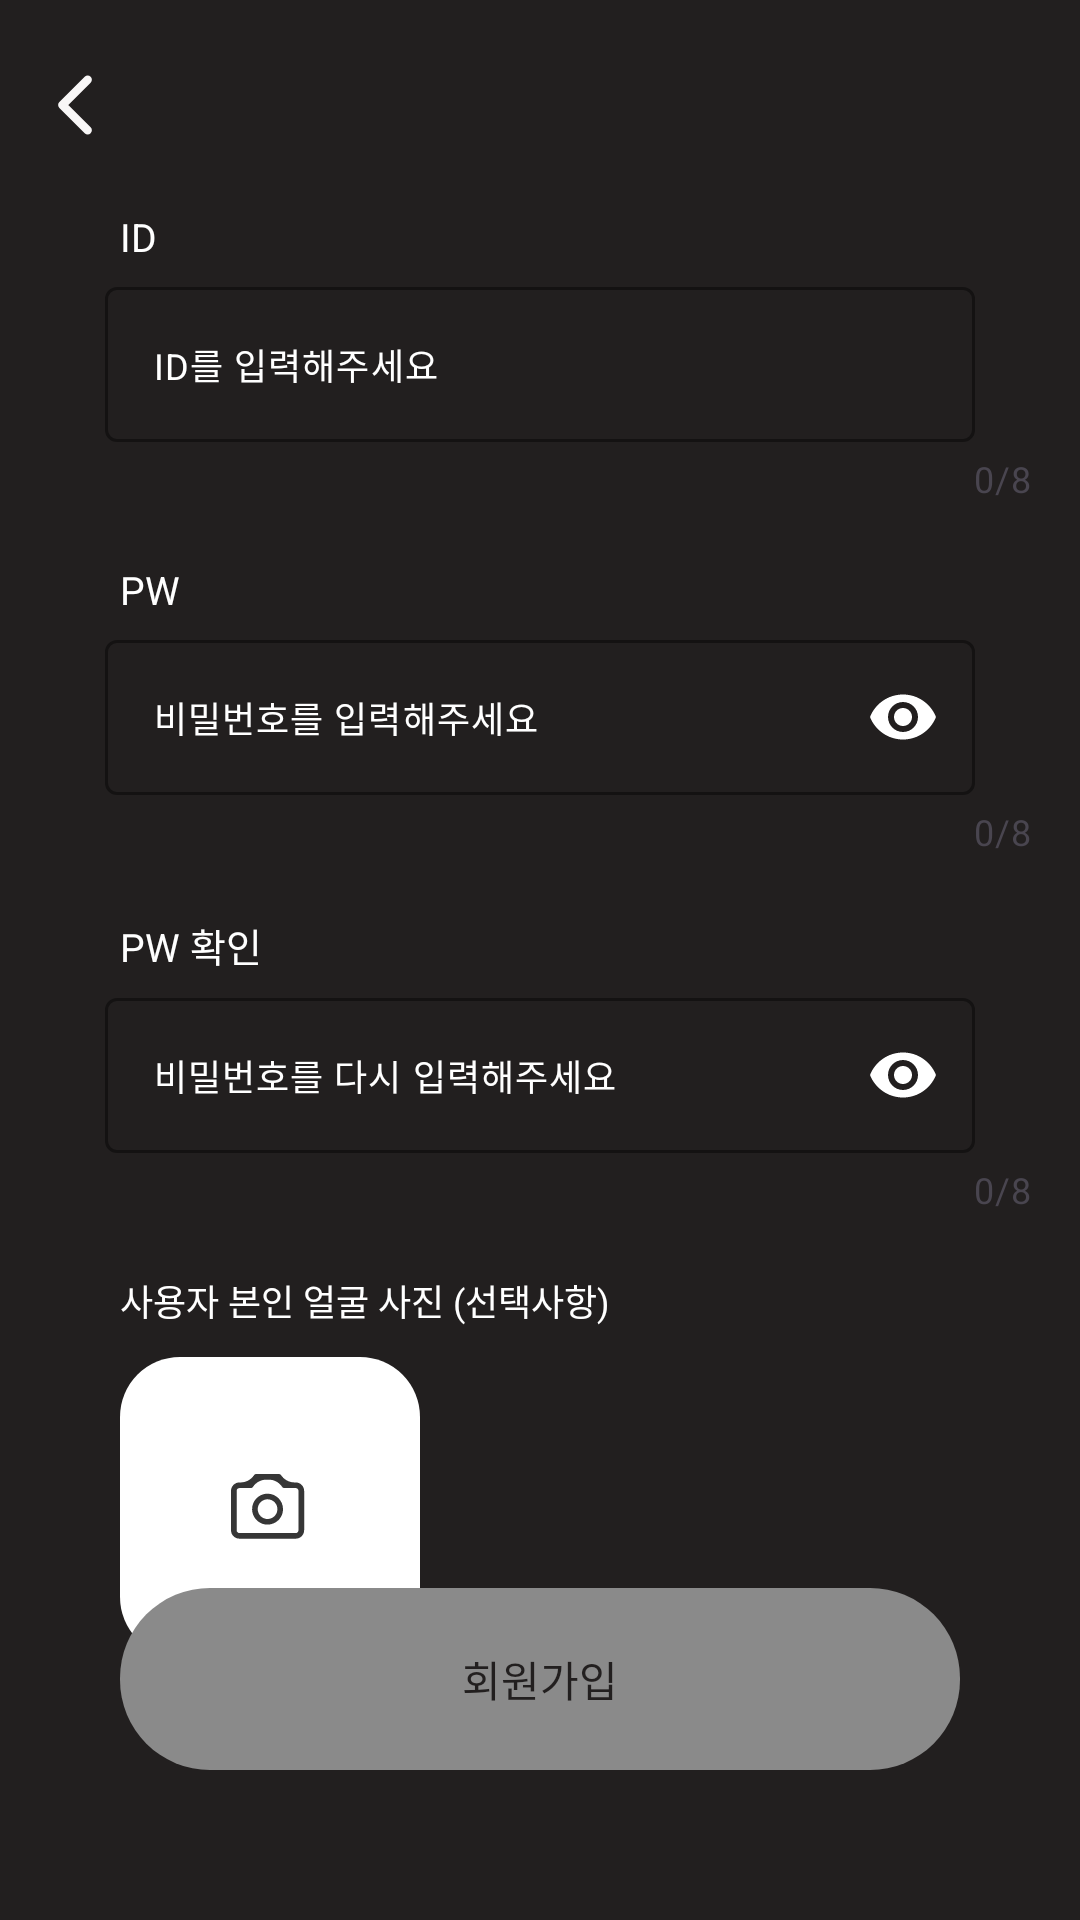

Where icons sit on this 1080 × 1920 app screen, as (x1, y1, x2, y2):
mypage back: (58, 75, 92, 135)
